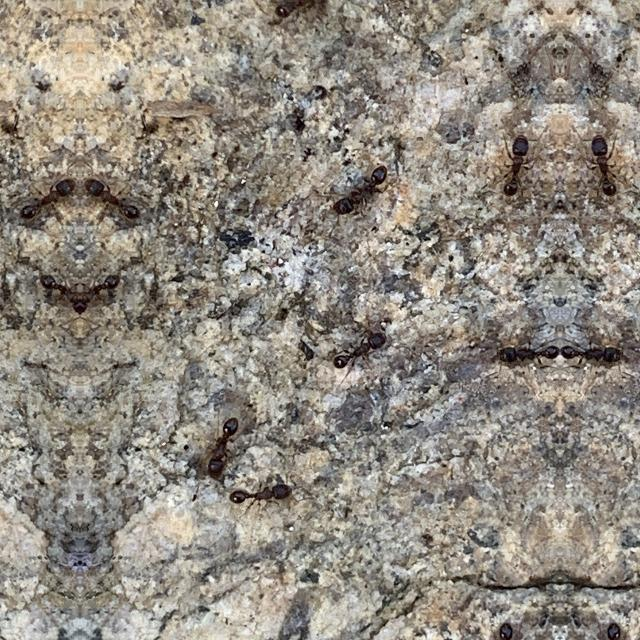Tetramorium: (316, 144, 406, 233), (322, 320, 394, 380), (11, 162, 80, 224), (80, 162, 148, 224), (483, 321, 559, 375), (561, 321, 637, 375), (222, 468, 304, 518), (490, 124, 542, 202), (578, 124, 630, 202), (182, 416, 240, 484), (80, 267, 126, 321), (34, 267, 80, 321), (262, 0, 330, 26)
